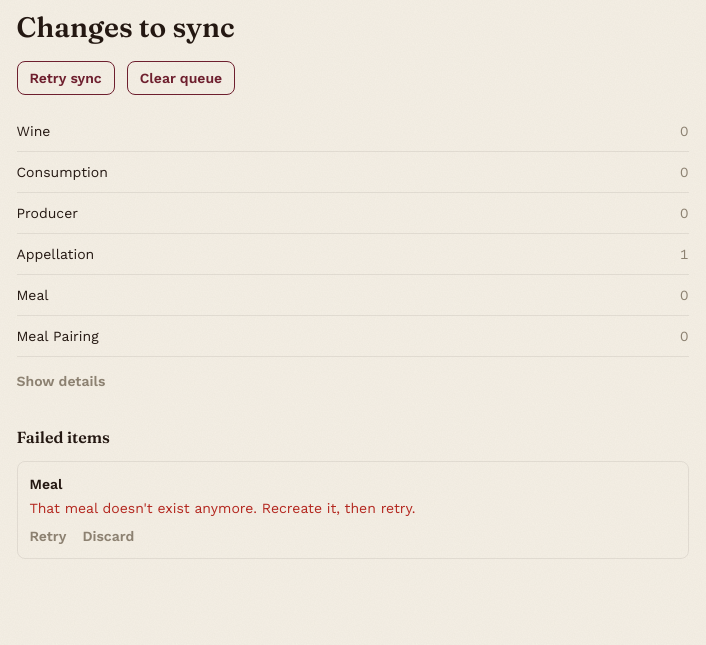
Test: SyncStatusView › Show details › does not duplicate failed items in the pending list
Click the button with test id "sync-status-toggle-details" at (61, 381), box [16,371,105,391]
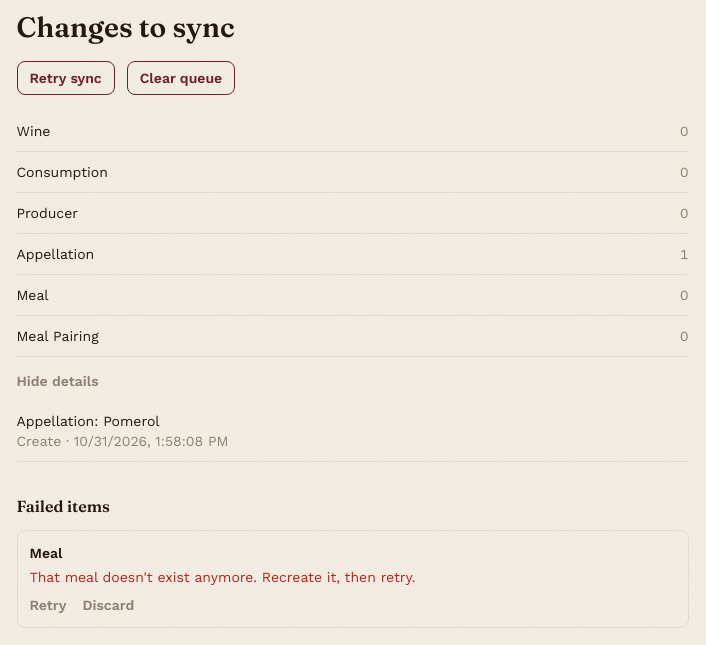
Check: the number of list items with test id "sync-status-failed-item" is 1, box [16,530,688,628]
Check: the number of list items with test id "sync-status-pending-item" is 1, box [16,401,688,462]
